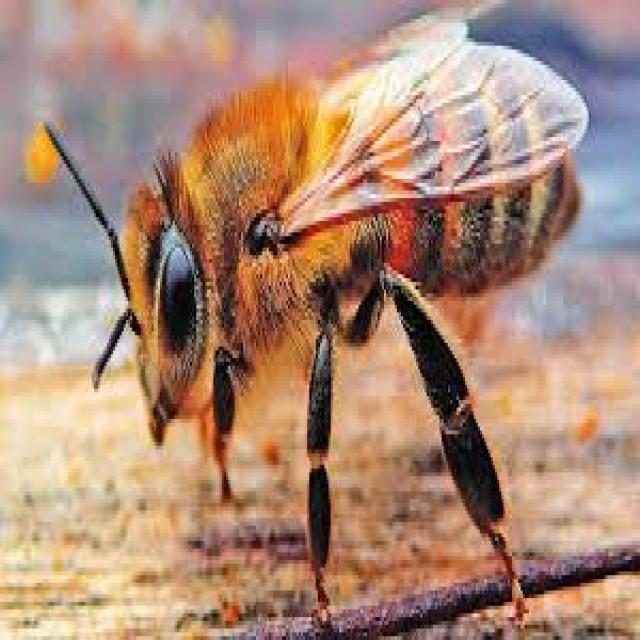Bees: (42, 12, 589, 636)
